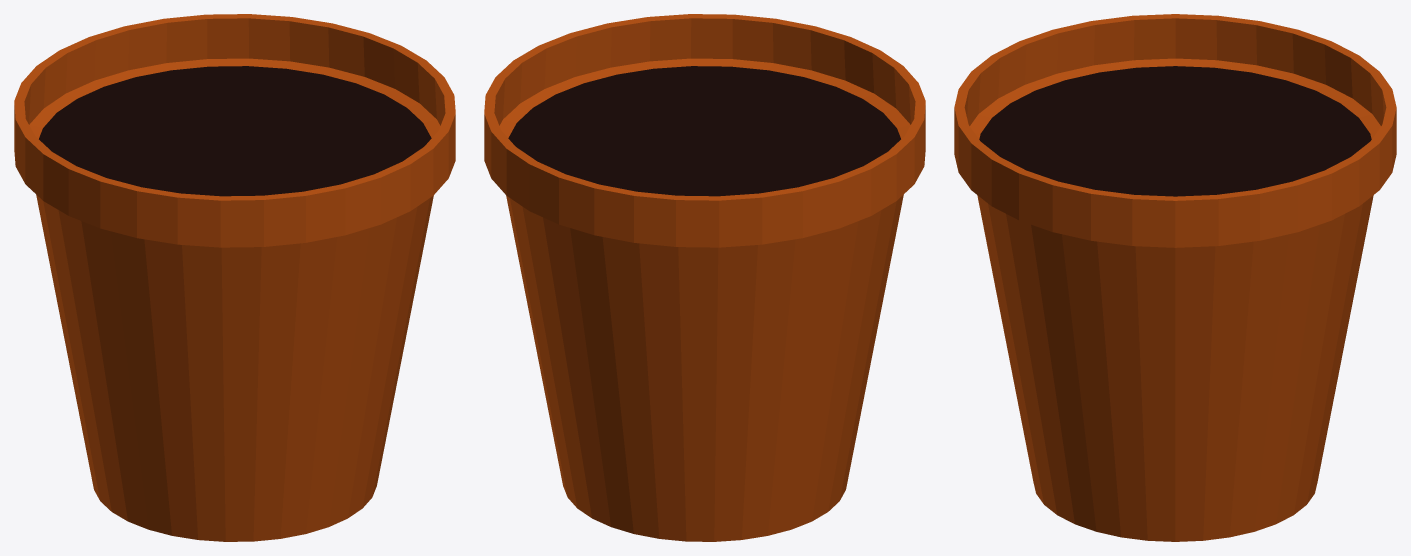
The model's file is plantpot.fbx.
3 renders of one model, left to right at view 1: azimuth 30°, elevation 25°; view 2: azimuth 150°, elevation 25°; view 3: azimuth 270°, elevation 25°, orthographic.
Visible parts, largest first — view 1: Cylinder; view 2: Cylinder; view 3: Cylinder.
Boxes of the visible parts, x1,y1,x2,y2 form: Cylinder: (14,14,455,541); Cylinder: (484,14,925,541); Cylinder: (954,14,1396,541).
Bounding box in the file's own units: 215 × 201 × 215.
